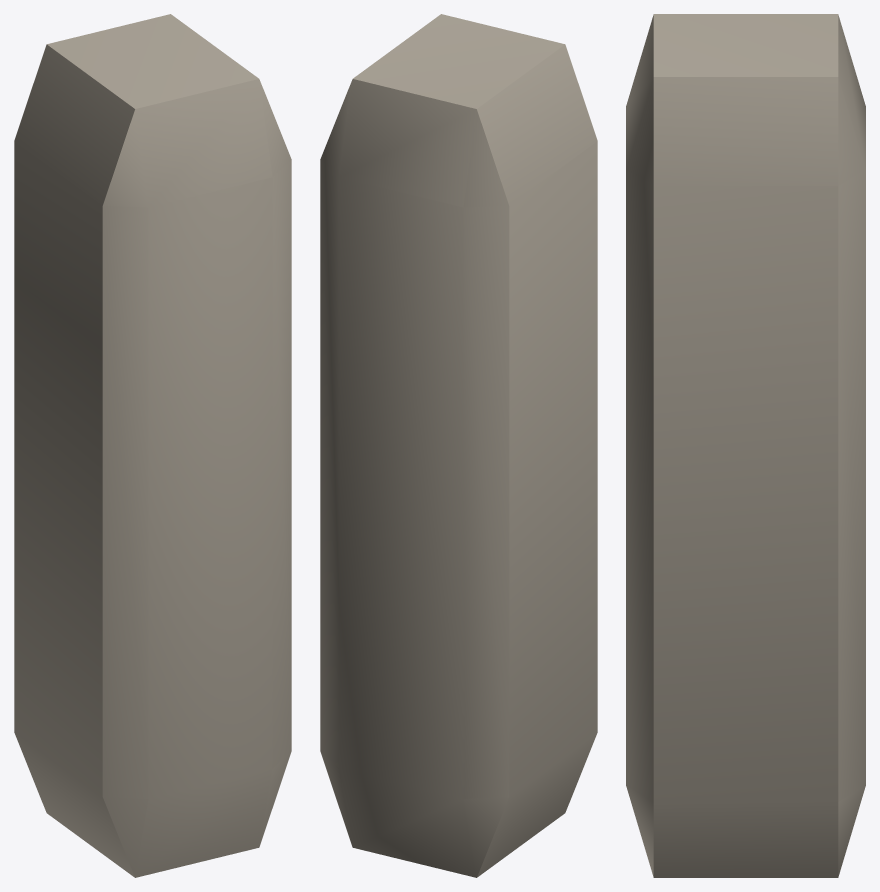
File: SM_Rabbit_LegF.fbx
3 views of the same model, side by side, from view 1: azimuth 30°, elevation 25°; view 2: azimuth 150°, elevation 25°; view 3: azimuth 270°, elevation 25° (orthographic). The views are drawn at different scales.
Parts seen in each view (by area): view 1: SM_Rabbit_LegF; view 2: SM_Rabbit_LegF; view 3: SM_Rabbit_LegF.
Part boxes in pixels (<box>): SM_Rabbit_LegF: <box>14,14,291,877</box>; SM_Rabbit_LegF: <box>320,14,597,877</box>; SM_Rabbit_LegF: <box>626,14,865,877</box>.
Bounding box in the file's own units: 0.18 × 0.7 × 0.19.
1 material, 1 textured.
